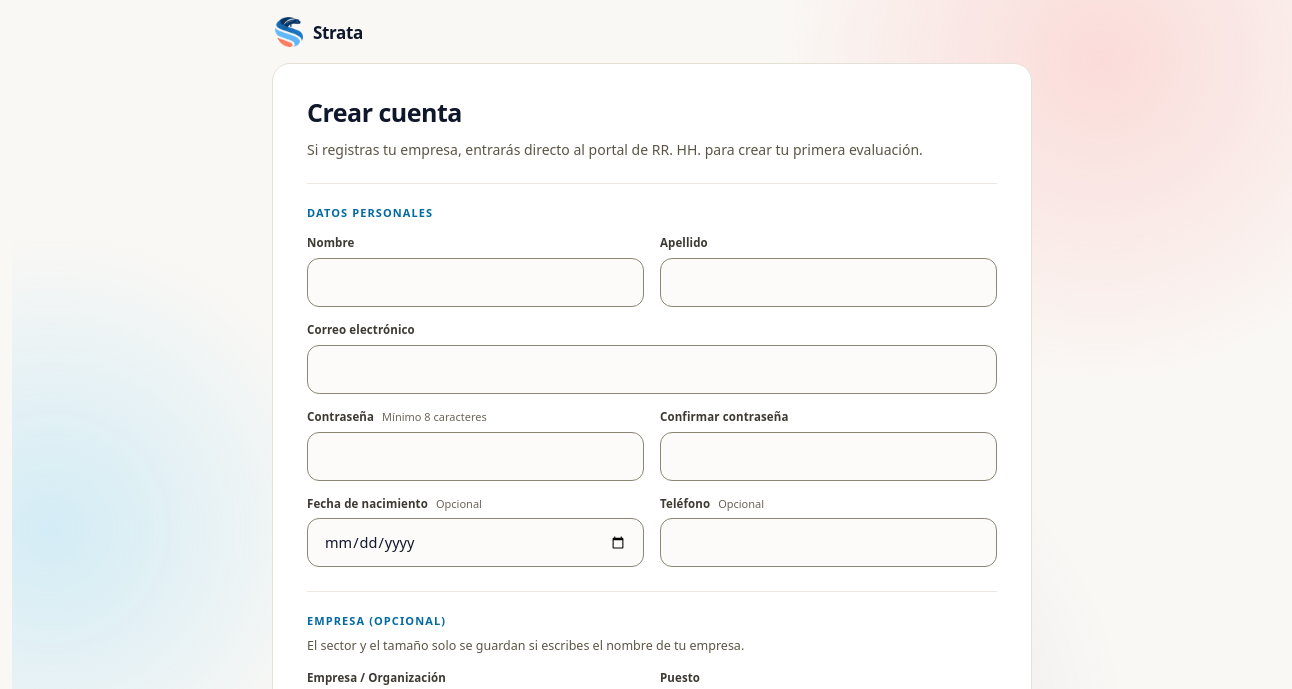
Test case: Registro › un 422 de la confirmación se muestra en su campo y se quita al cambiar la contraseña
The image size is (1292, 689).
Step 1. Type "Leo" into the field labelled "Nombre" → (476, 282), box [308,259,643,306]
Step 2. Type "Ríos" into the field labelled "Apellido" → (828, 282), box [661,259,996,306]
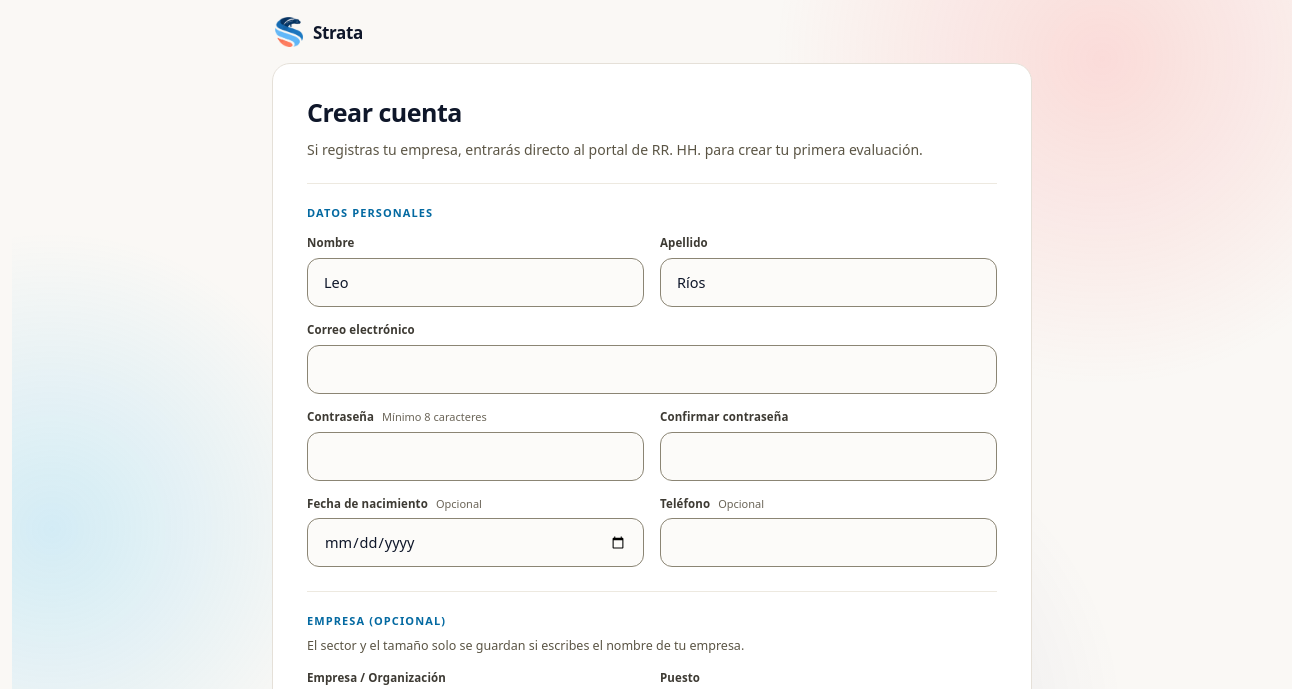
Step 3. Type "leo@empresa.mx" into the field labelled "Correo electrónico" → (652, 369), box [308,346,996,393]
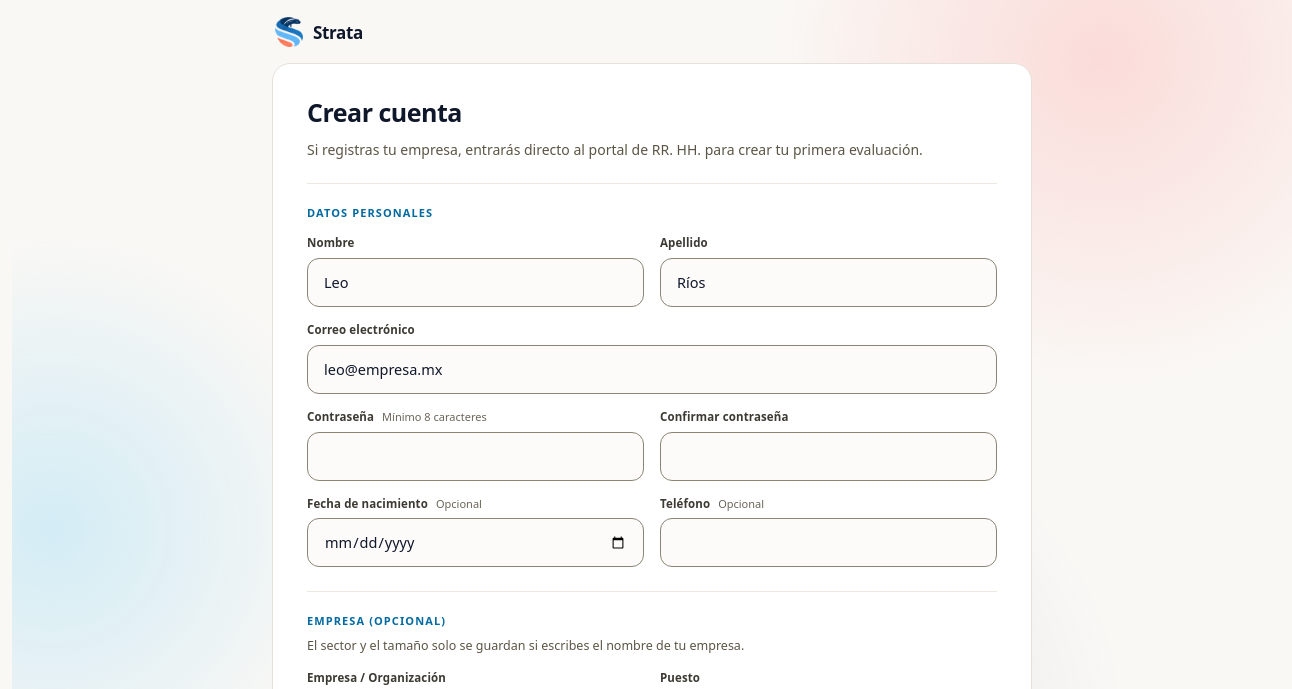
Step 4. Type "Secreta123" into the password field labelled "Contraseña" → (476, 456), box [308,433,643,480]
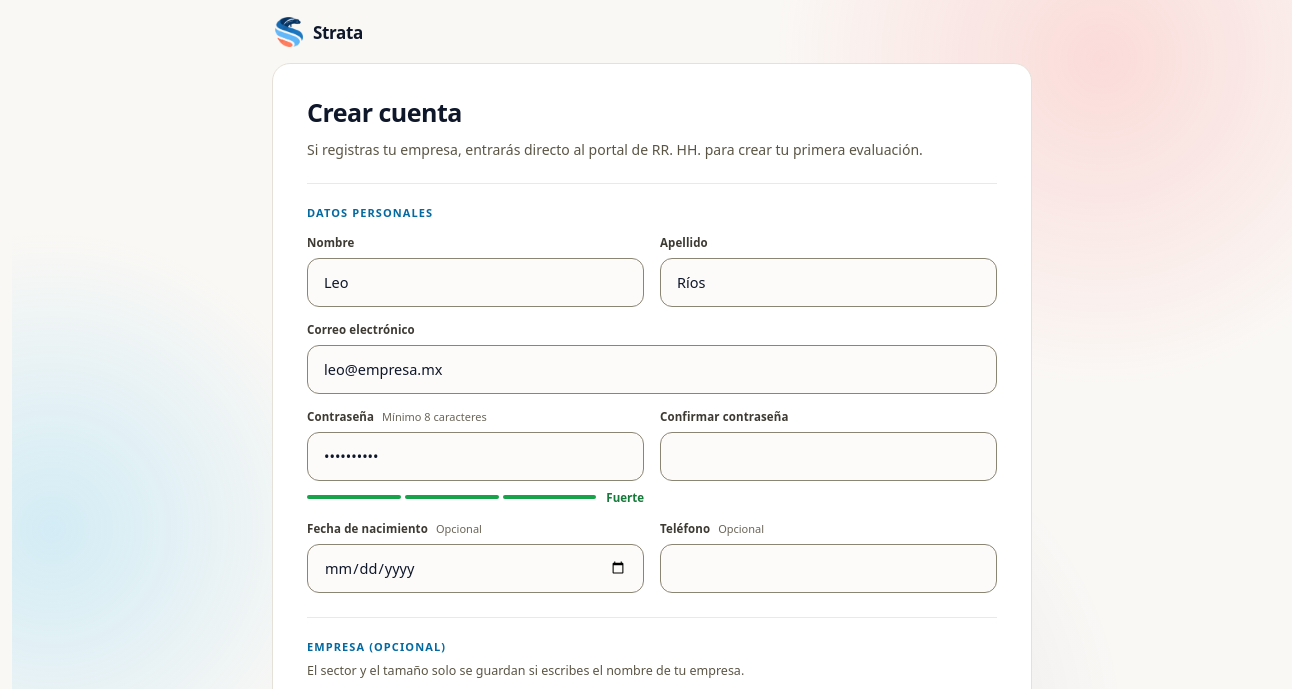
Step 5. Type "Secreta123" into the password field labelled "Confirmar contraseña" → (828, 456), box [661,433,996,480]
(page scrolled)
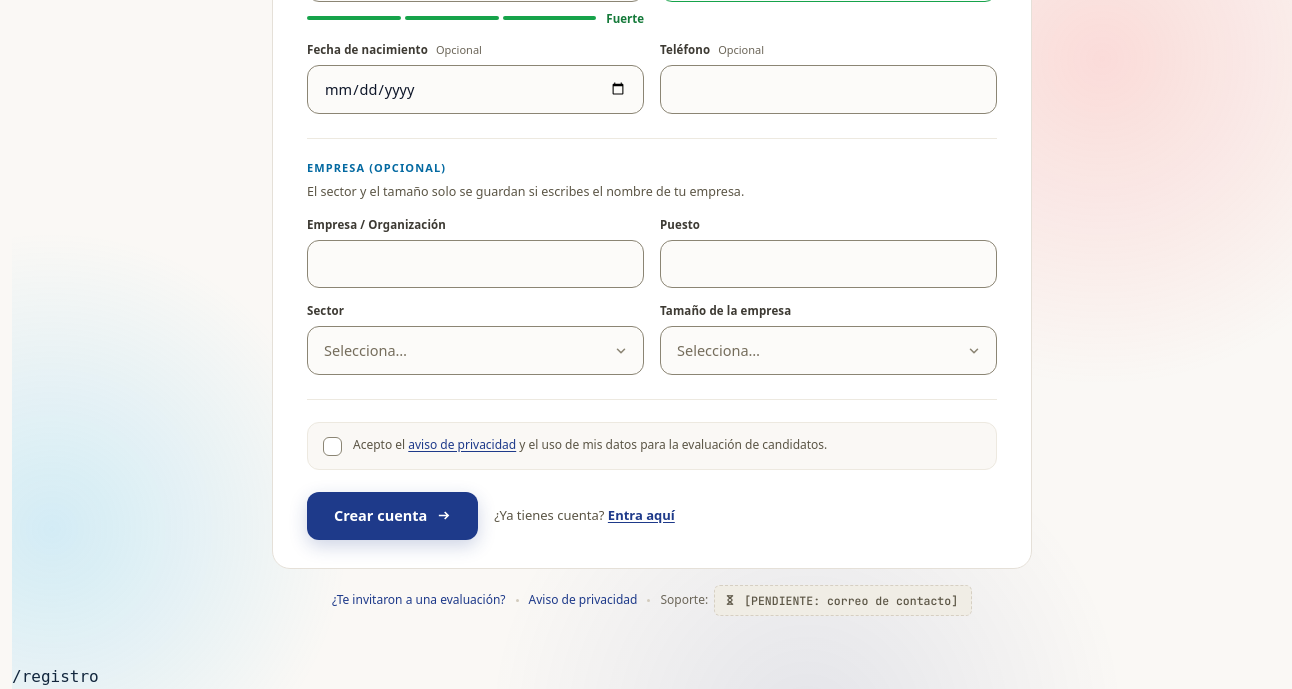
Step 6. Click the button "Crear cuenta" → click(393, 516), box [307,492,478,540]
(page scrolled)
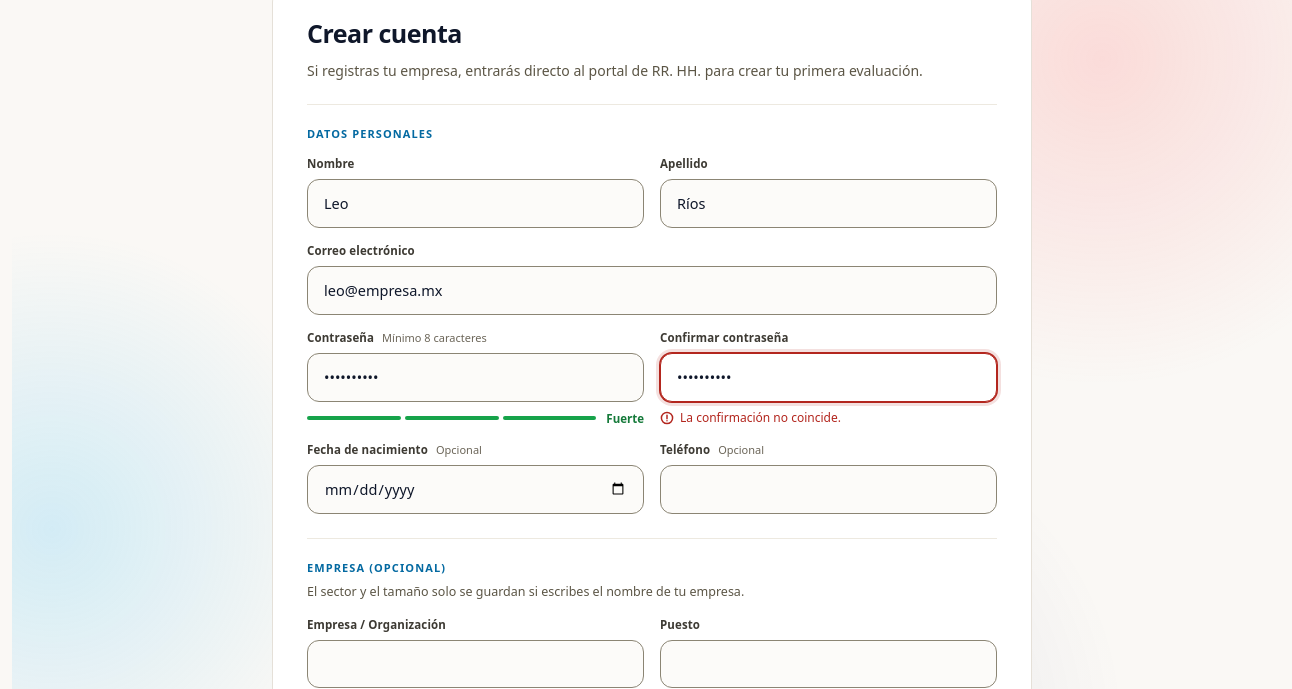
Now the text "La confirmación no coincide." is shown, box [680,408,841,426]
Step 7. Type "4" into the password field labelled "Contraseña" → (476, 377), box [308,354,643,400]
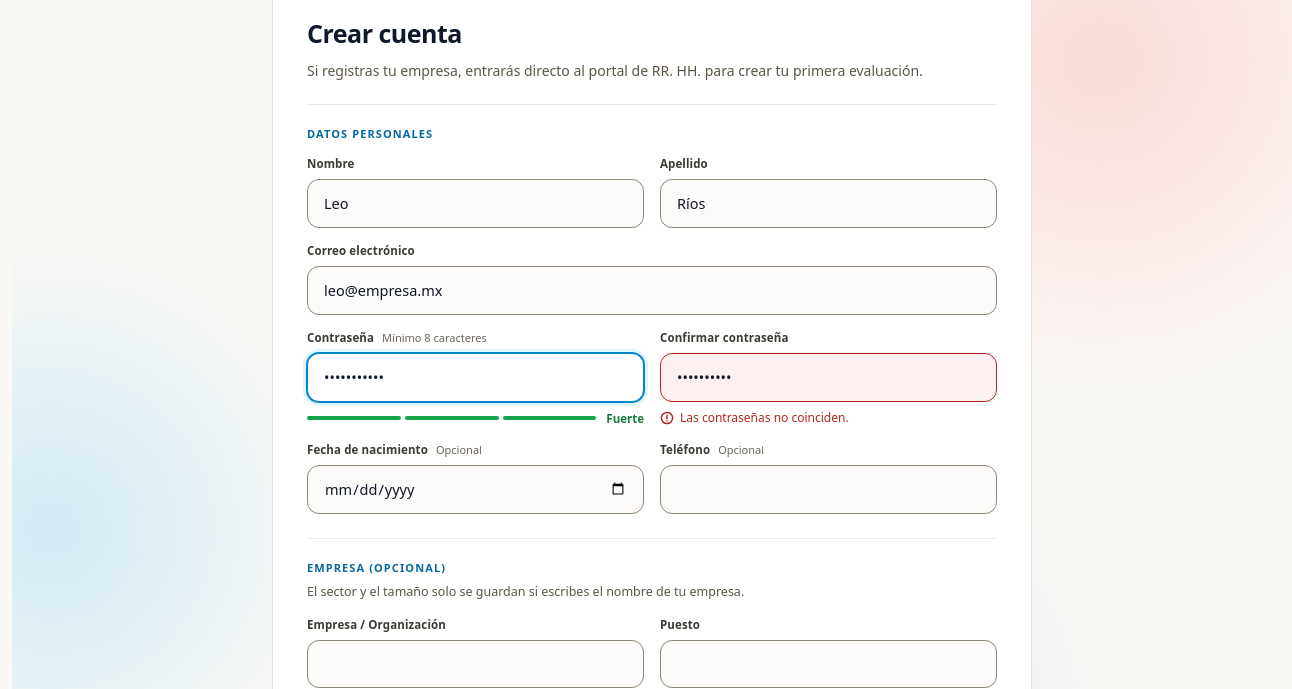
Now the text "La confirmación no coincide." is gone
